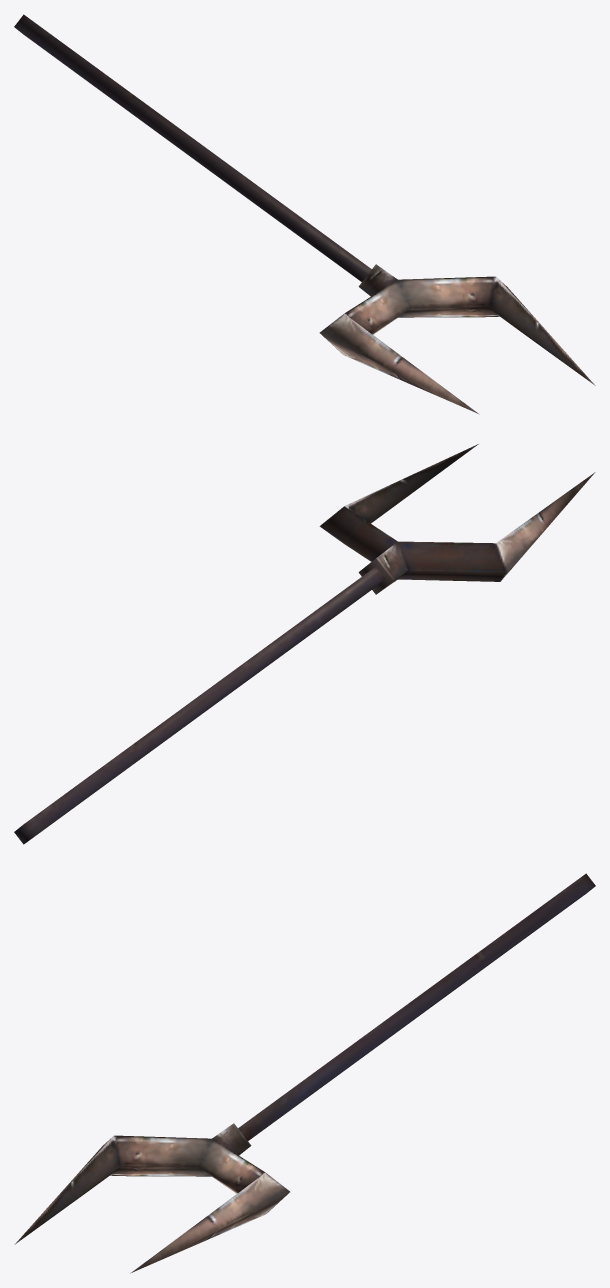
File: leiyinsicunmin_weapon.FBX
3 renders of one model, top to bottom at view 1: azimuth 30°, elevation 25°; view 2: azimuth 150°, elevation 25°; view 3: azimuth 330°, elevation 25°, orthographic.
Visible parts, largest first — view 1: leiyinsicunmin_weapon; view 2: leiyinsicunmin_weapon; view 3: leiyinsicunmin_weapon.
Boxes of the visible parts, <box> form: leiyinsicunmin_weapon: <box>14,14,595,414</box>; leiyinsicunmin_weapon: <box>14,444,595,844</box>; leiyinsicunmin_weapon: <box>14,873,595,1273</box>.
Size of the model in its own units: 0.6088 by 2.88 by 0.1227.
